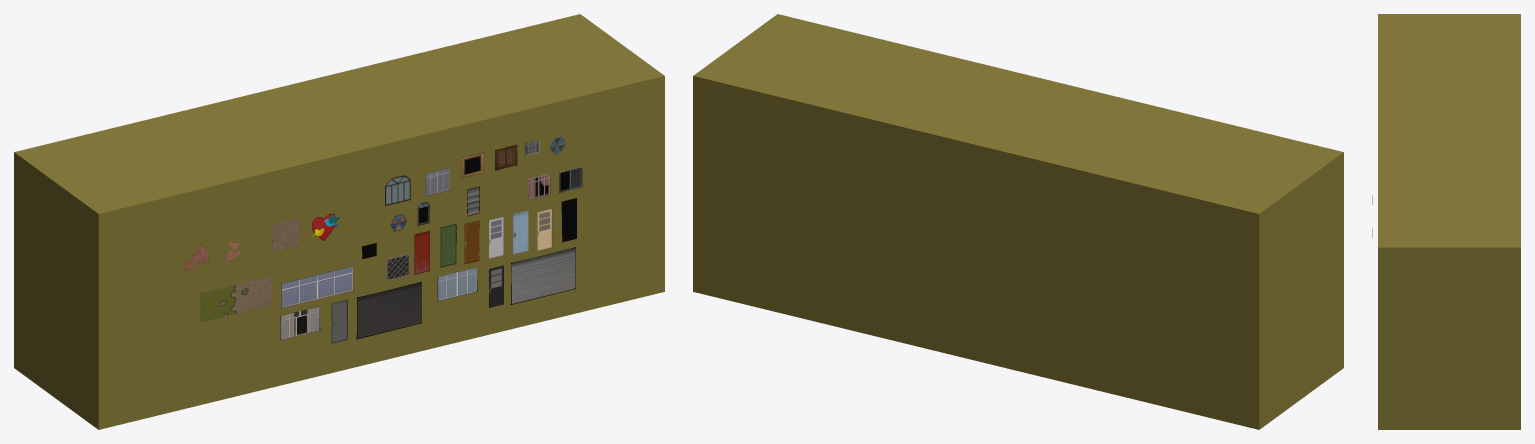
Rendered from portas_janelas_mod.fbx.
3 views of the same model, side by side, from view 1: azimuth 30°, elevation 25°; view 2: azimuth 150°, elevation 25°; view 3: azimuth 270°, elevation 25° (orthographic). The views are drawn at different scales.
Visible parts, largest first — view 1: Cube.007, Cube.026, Cube.005, Plane.003, Cube.027, Cube.003, Cube.028, Plane.004, Cube.002, Cube.001, Cube.014, Cube.012 (+4 smaller); view 2: Cube.007; view 3: Cube.007.
Part boxes in pixels (x1,y1,x2,y2): Cube.007: (14, 14, 664, 429); Cube.026: (356, 281, 421, 339); Cube.005: (510, 247, 575, 304); Plane.003: (200, 276, 271, 322); Cube.027: (281, 266, 353, 308); Cube.003: (437, 267, 477, 301); Cube.028: (280, 306, 320, 340); Plane.004: (272, 218, 299, 252); Cube.002: (331, 299, 347, 343); Cube.001: (440, 224, 456, 267); Cube.014: (385, 175, 410, 205); Cube.012: (464, 220, 479, 264); Cube.007: (693, 14, 1343, 429); Cube.007: (1378, 14, 1520, 429).
Bounding box in the file's own units: 2680 × 977 × 722.
